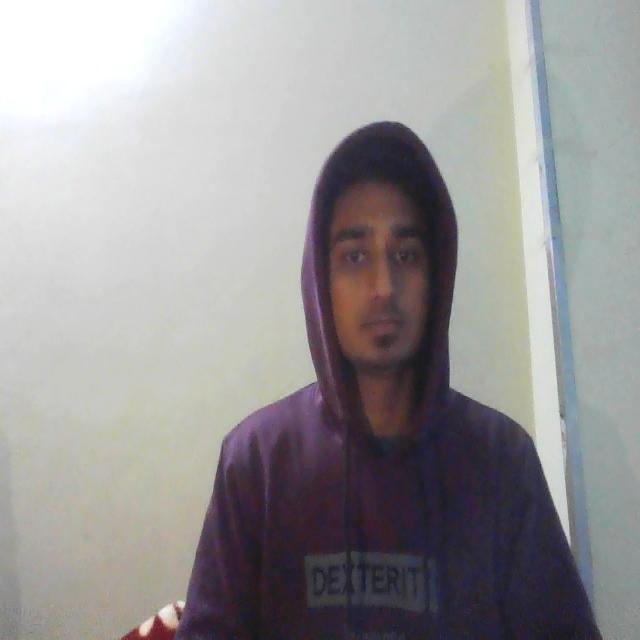real: (315, 135, 445, 381)
